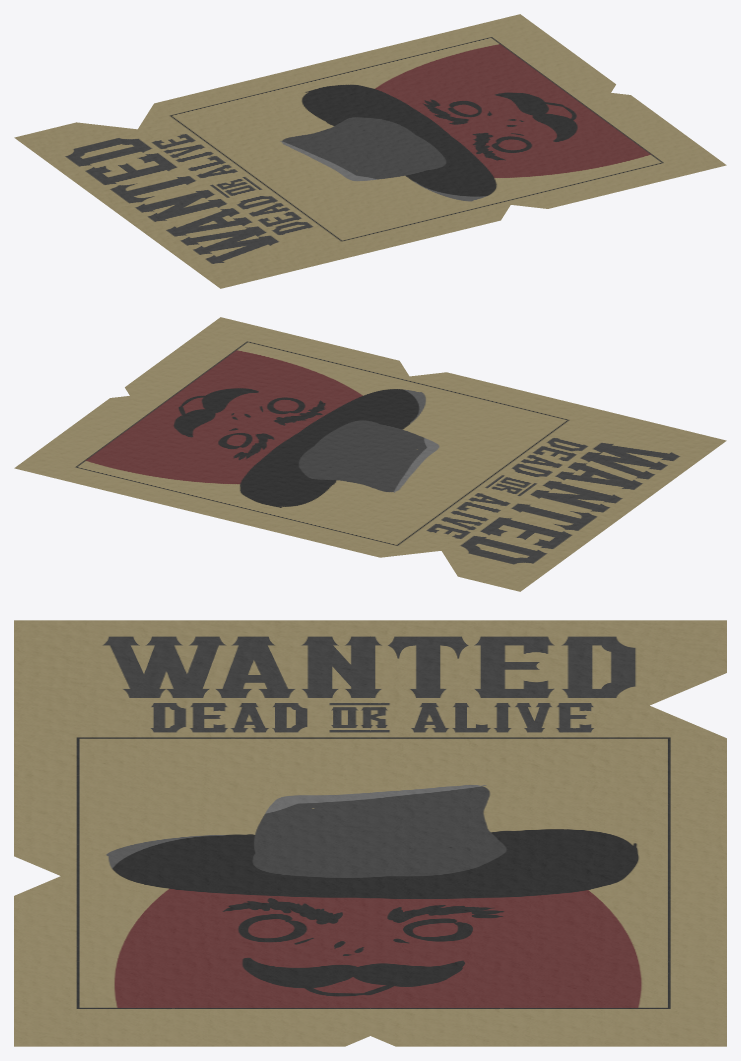
Rendered from Poster.fbx.
3 renders of one model, top to bottom at view 1: azimuth 30°, elevation 25°; view 2: azimuth 150°, elevation 25°; view 3: azimuth 270°, elevation 25°, orthographic. The views are drawn at different scales.
Visible parts, largest first — view 1: WANTED; view 2: WANTED; view 3: WANTED.
Part boxes in pixels (<box>): WANTED: <box>14,14,726,288</box>; WANTED: <box>14,317,726,591</box>; WANTED: <box>14,620,726,1046</box>.
Size of the model in its own units: 438 by 7.14e-05 by 310.
1 material, 1 textured.
